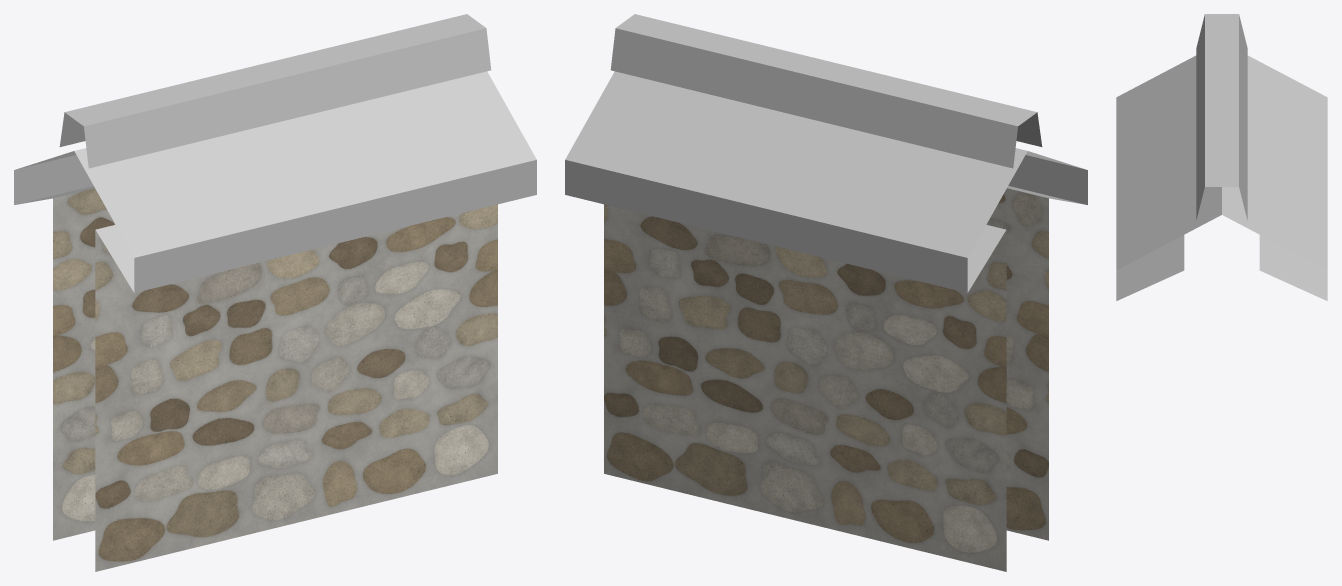
File: Hanok_Wall_Straight_01.fbx
The picture shows the model from 3 angles, left to right: view 1: azimuth 30°, elevation 25°; view 2: azimuth 150°, elevation 25°; view 3: azimuth 270°, elevation 25°; orthographic projection. The views are drawn at different scales.
Parts seen in each view (by area): view 1: Wall_Straight_01; view 2: Wall_Straight_01; view 3: Wall_Straight_01.
Part boxes in pixels (x1,y1,x2,y2): Wall_Straight_01: (14,14,536,571); Wall_Straight_01: (565,14,1087,571); Wall_Straight_01: (1116,14,1327,300).
Size of the model in its own units: 2.4 by 2.49 by 1.24.
